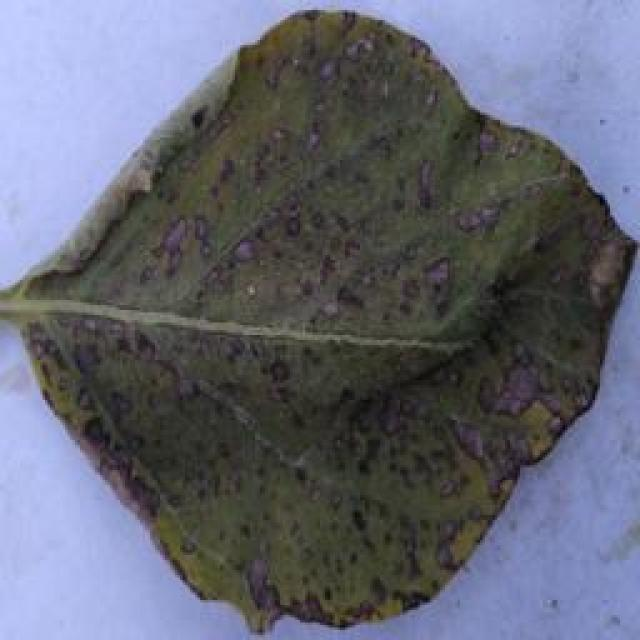Potato_Early_Blight: (13, 5, 638, 626)
